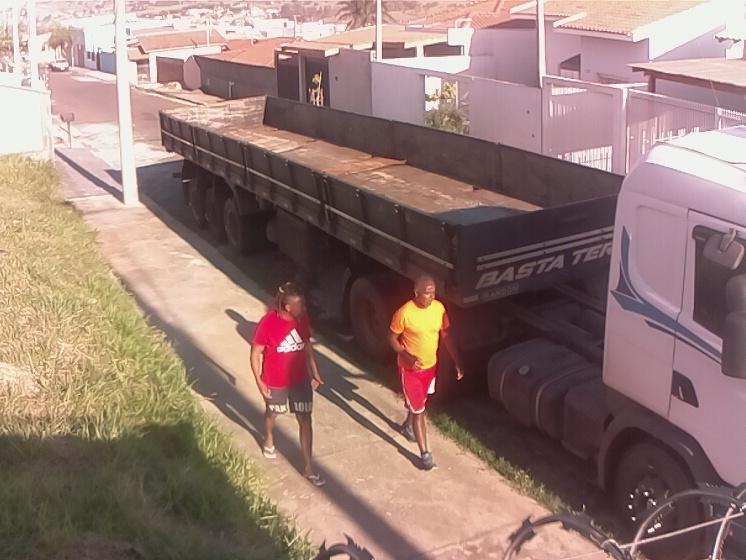person: (247, 280, 329, 490), (384, 274, 469, 476)
